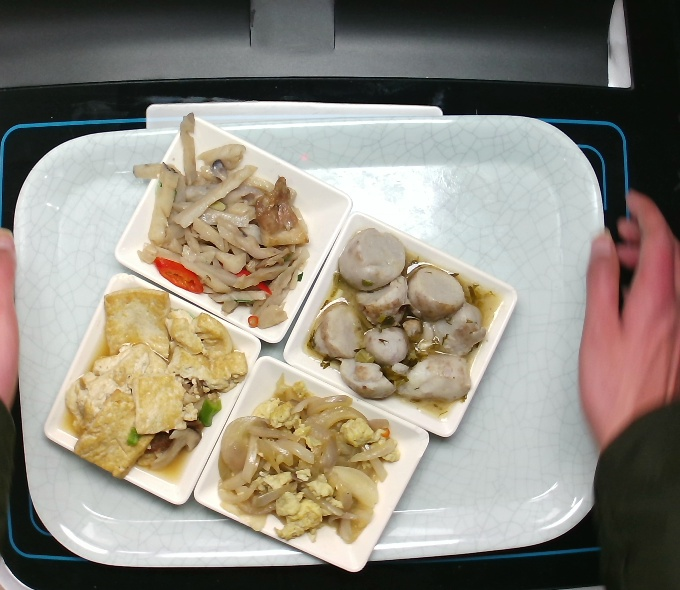wcq-JiaChangDouFu: (64, 281, 253, 479)
wcq-QingChaoOuPian: (130, 113, 314, 334)
wcq-YangCongChaoDan: (221, 380, 410, 549)
wcq-YangYu: (289, 225, 505, 421)
